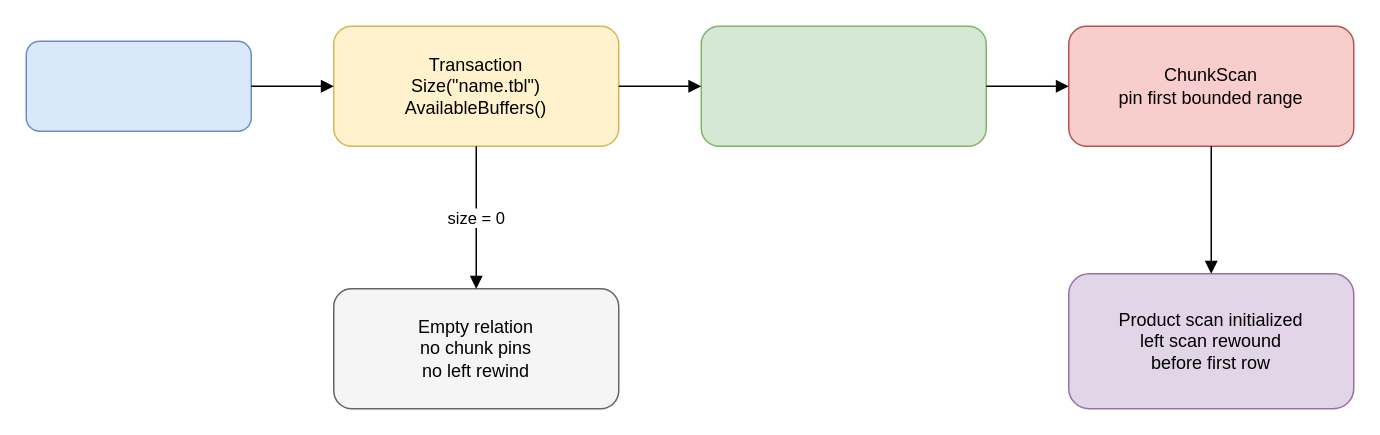
This 1380x435 diagram has some shape labels left out. The box of each missing label's shape, as (x1, y1, x2, y2) in pixels:
BestFactor choose first chunk size: (700, 25, 986, 146)
Right table name: (25, 40, 251, 131)
